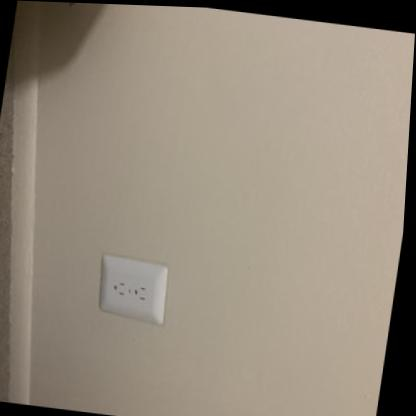OUTLET: (94, 253, 172, 326)
